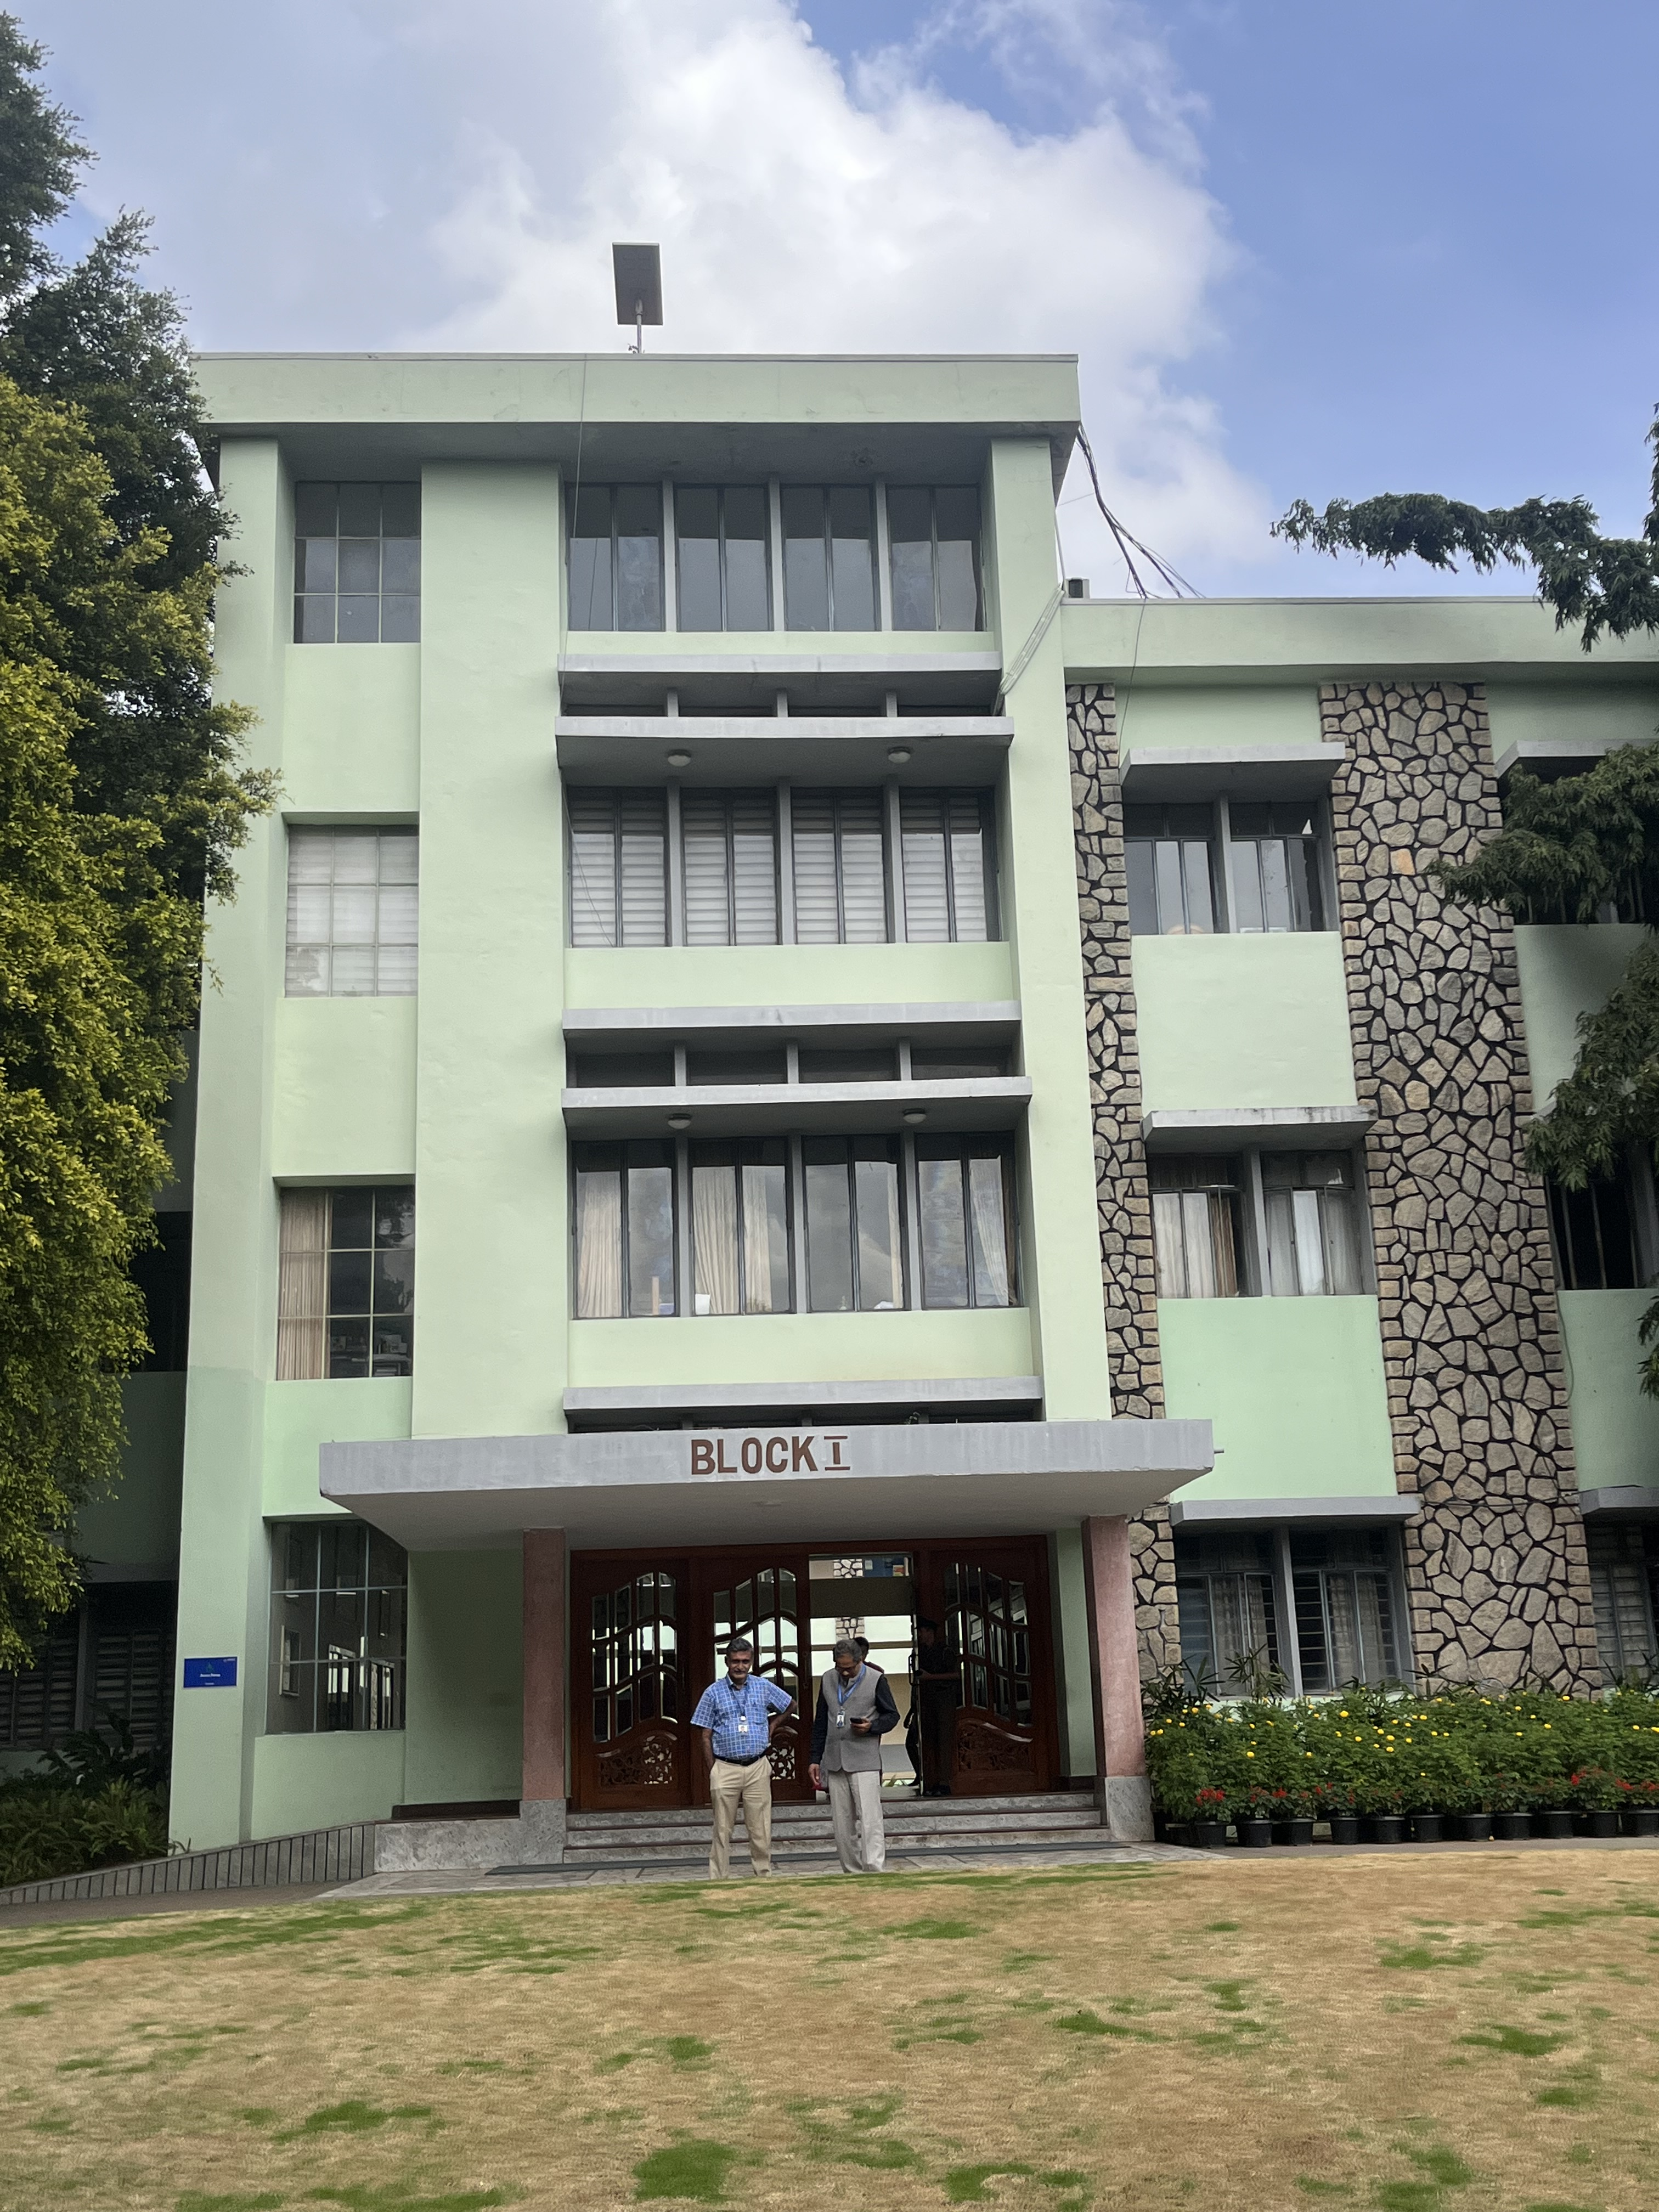Block 1: (199, 308, 1601, 1780)
